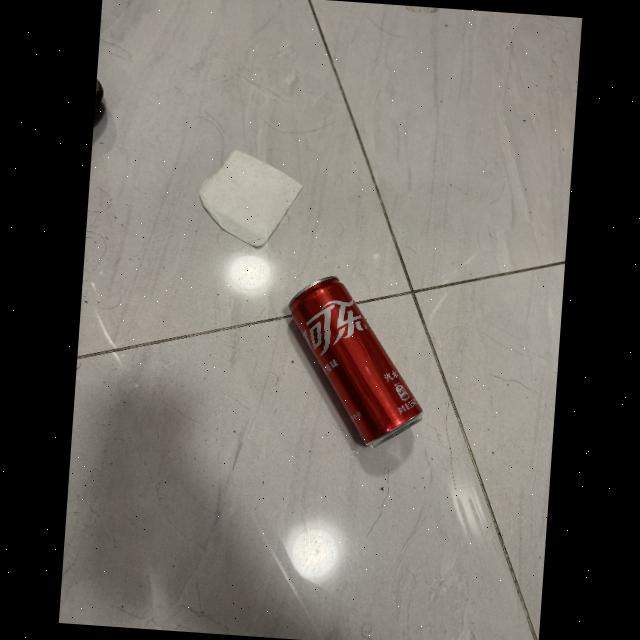Cola: (268, 264, 442, 460)
